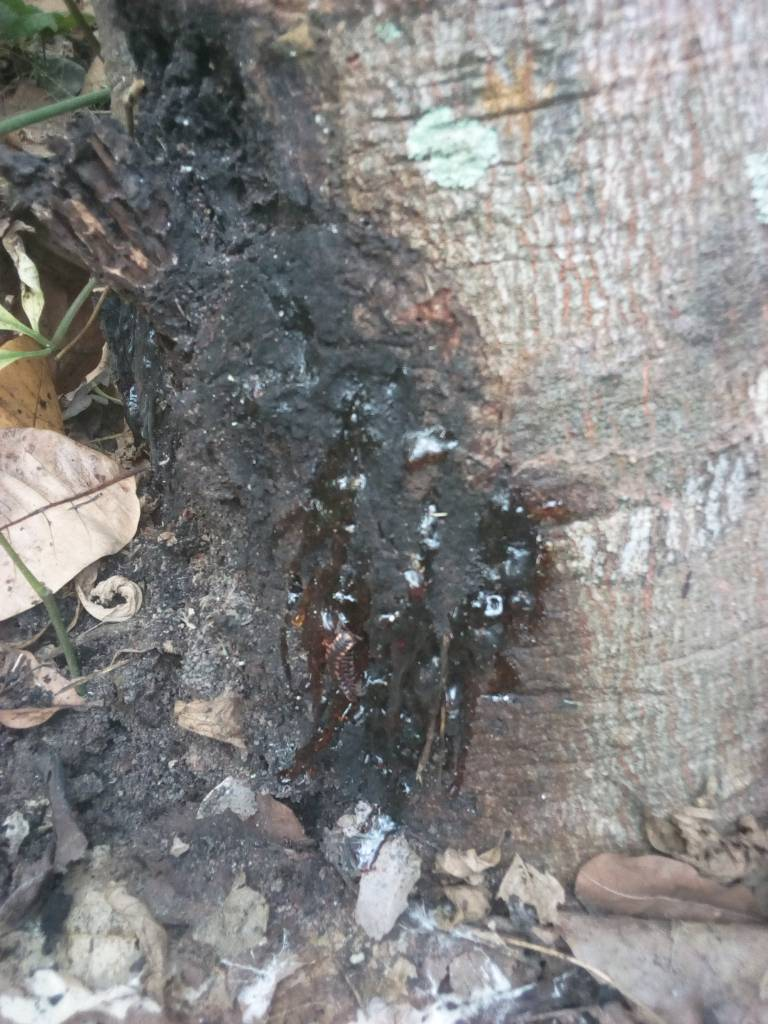Gommose: (286, 408, 550, 807)
